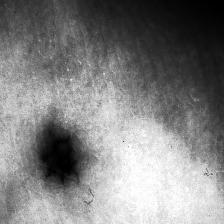Benign Marking or Mole: (37, 127, 80, 185)
